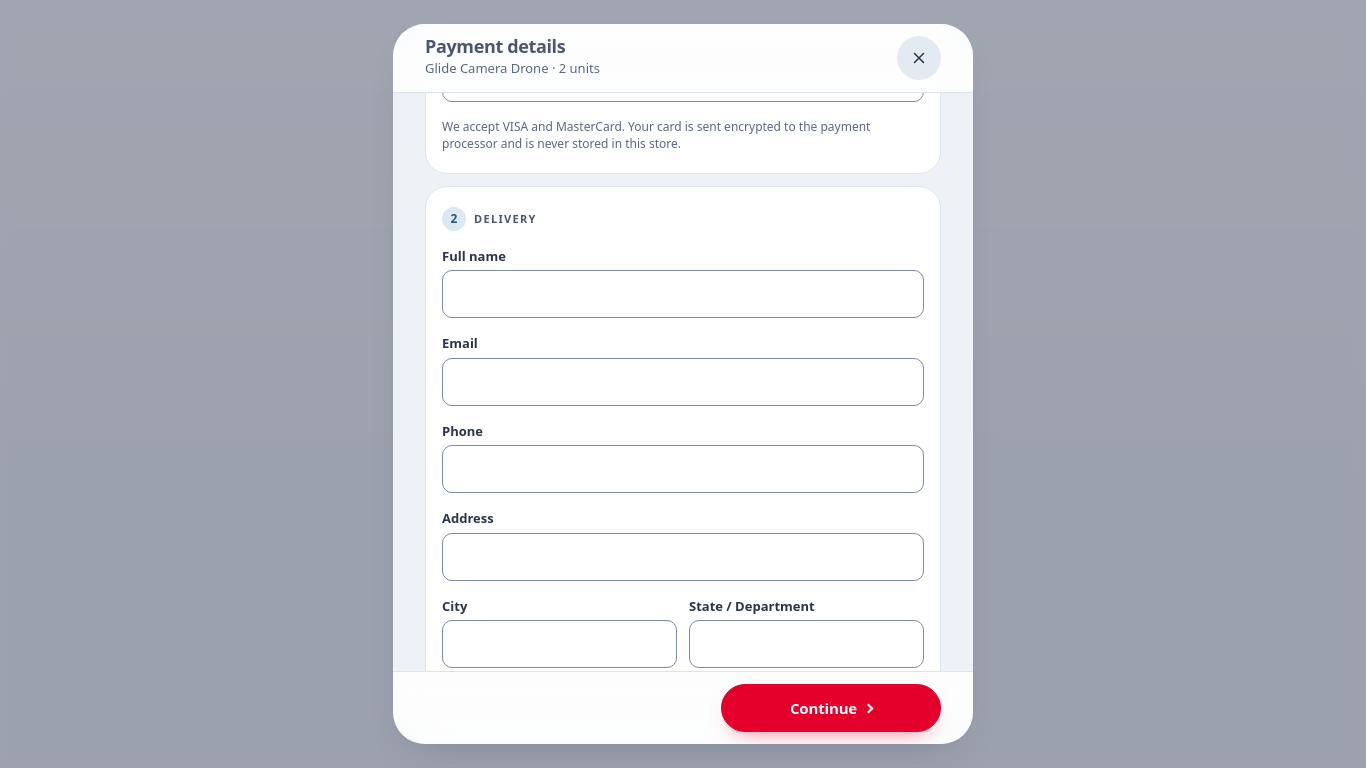
Test case: DetailsModal › validation › clears the message once the field is fixed
(page scrolled)
Type "ana@" into the field labelled "Email".
click(683, 382); type("ana@")  # box [442,358,924,406]
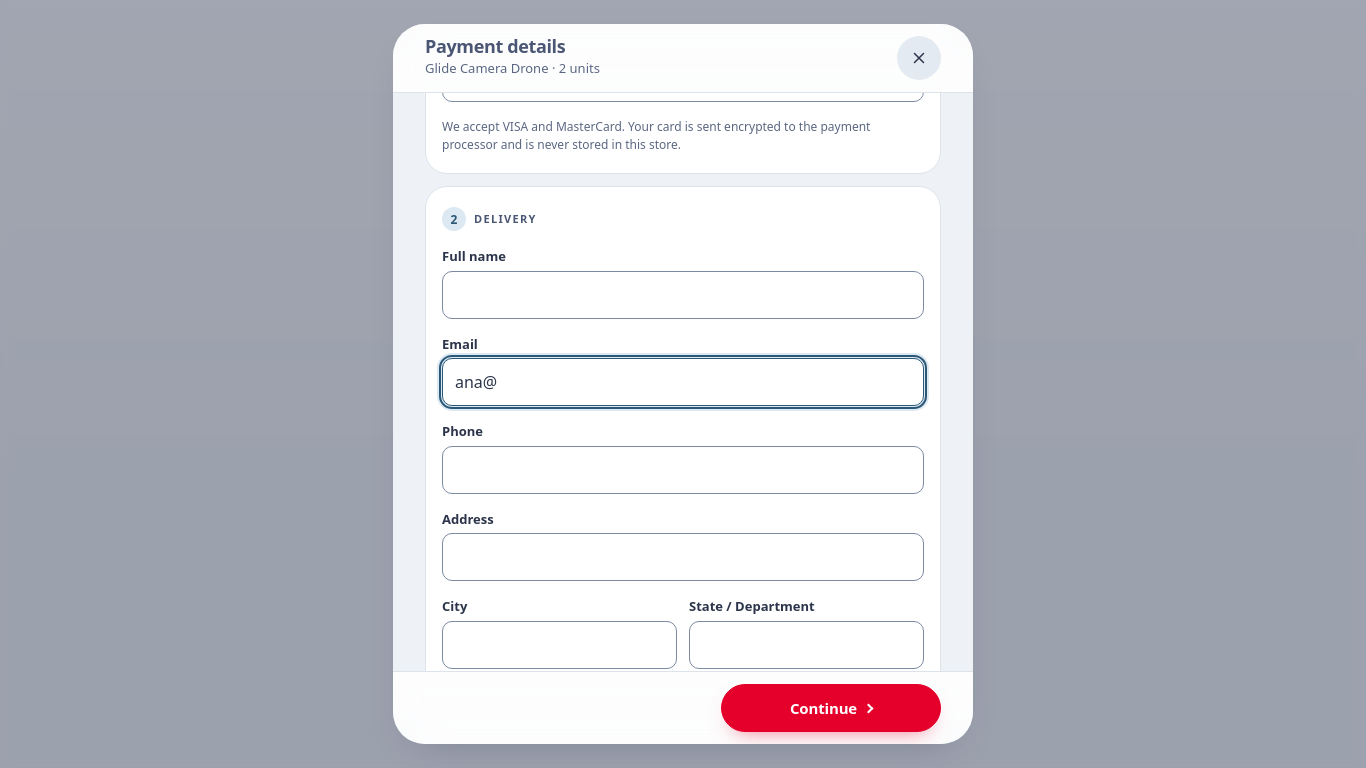
Press Tab
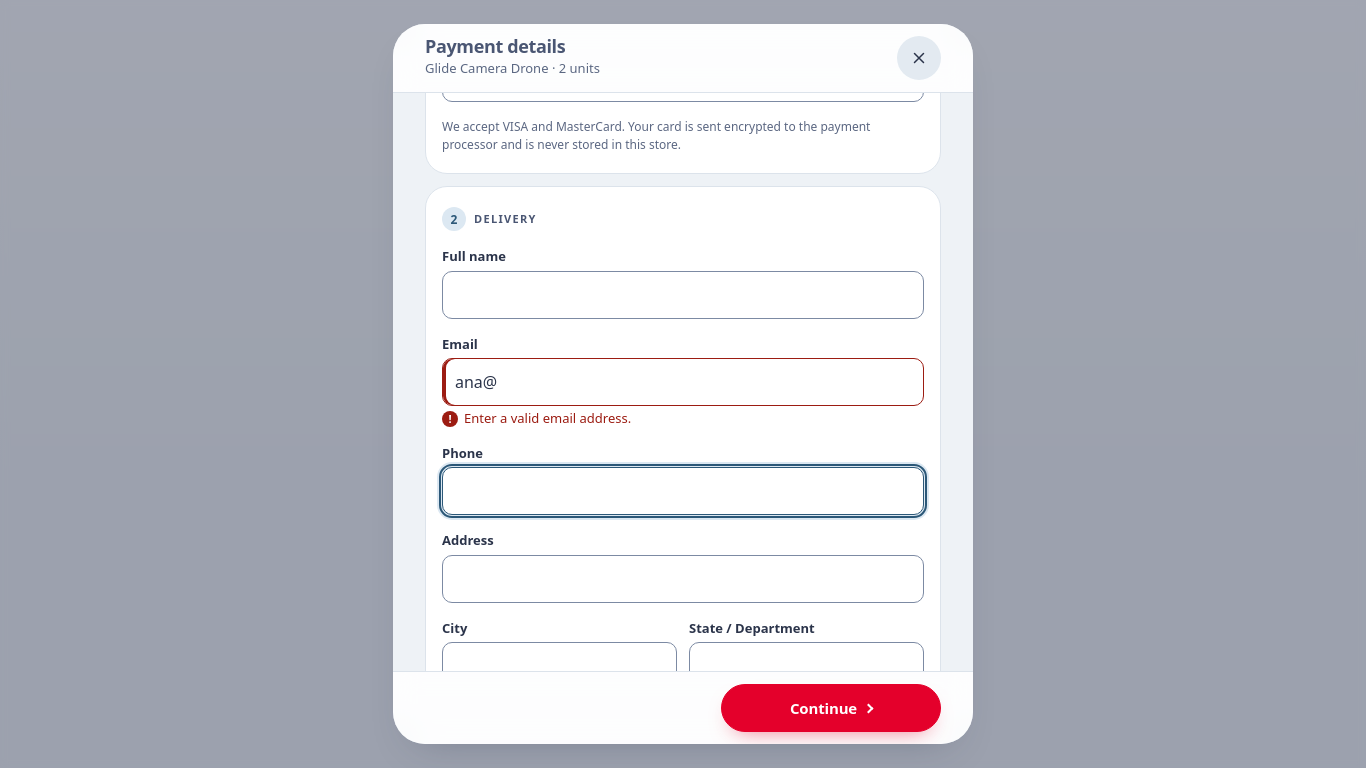
Type "example.com" into the field labelled "Email".
click(683, 382); type("example.com")  # box [442,358,924,406]
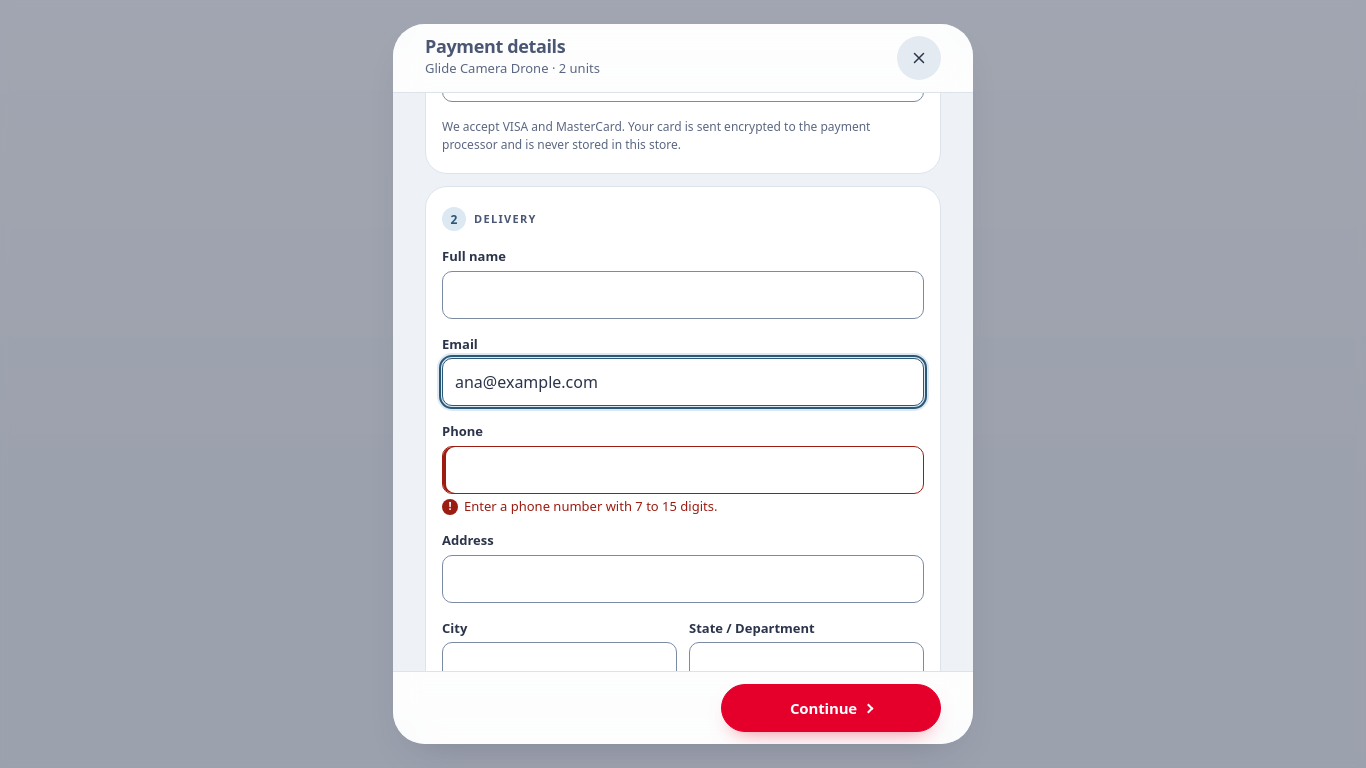
Expected: the text "Enter a valid email address." is gone
